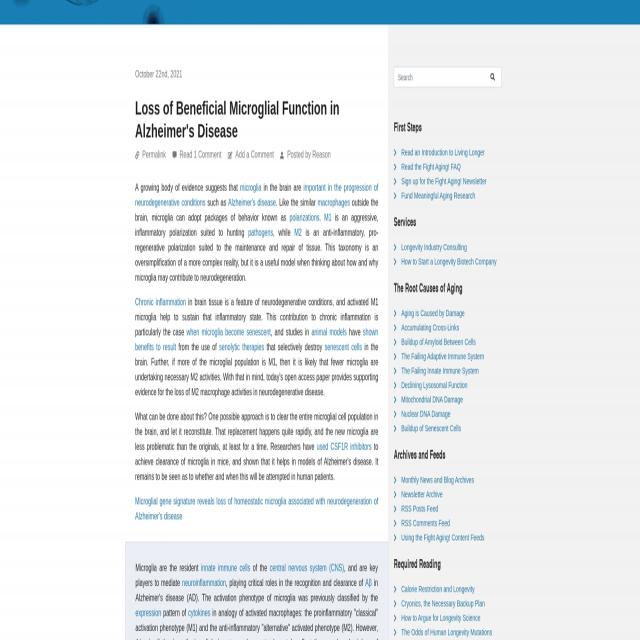button: (484, 67, 502, 87)
field: (394, 67, 484, 87)
